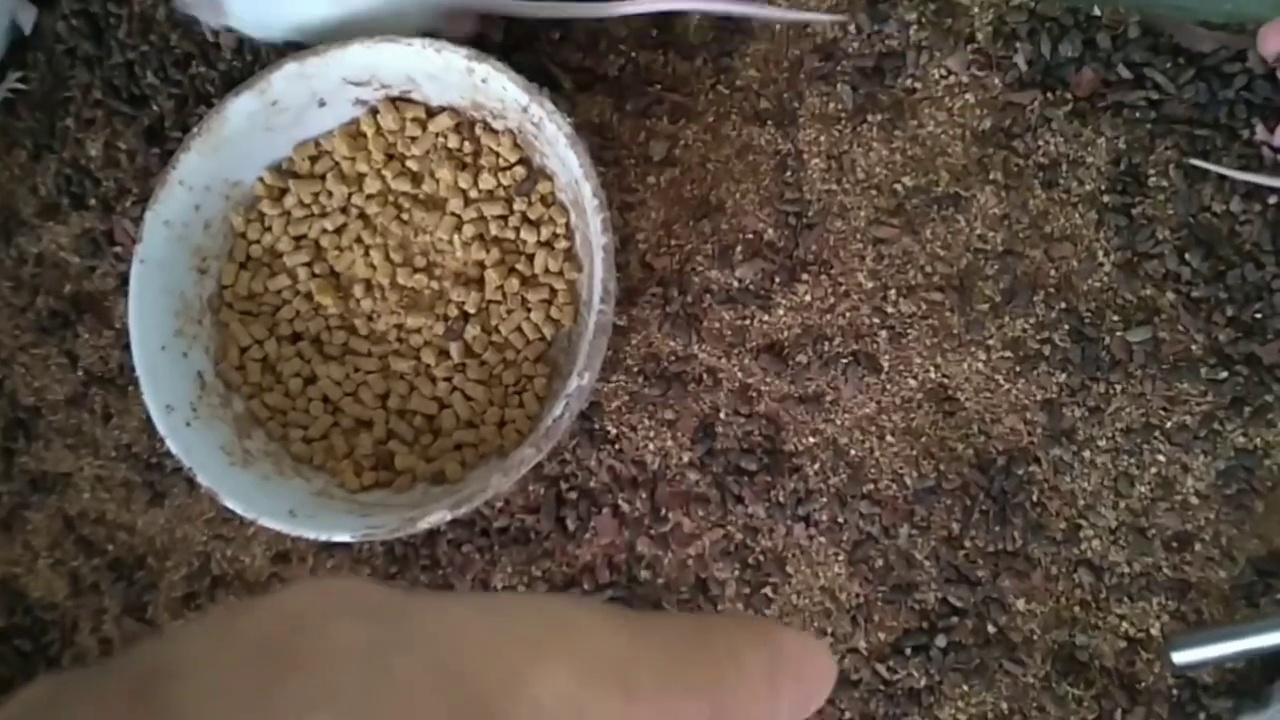rat: (173, 0, 849, 44)
